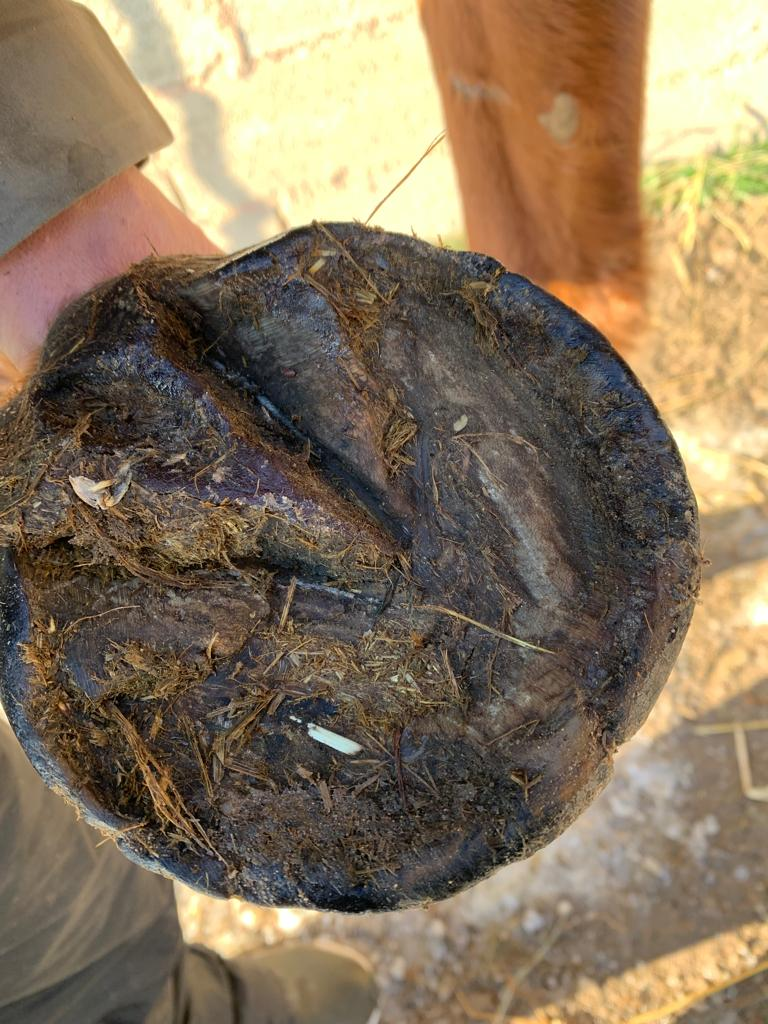horsesole: (2, 220, 704, 915)
